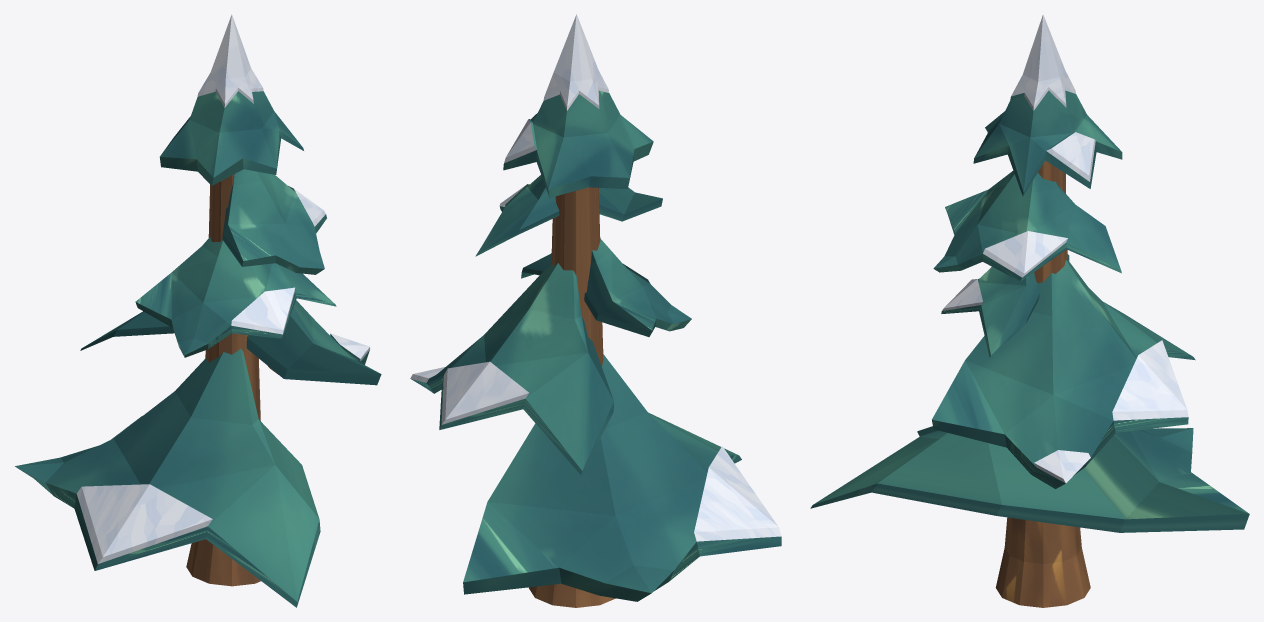
The model's file is Tree02.fbx.
3 renders of one model, left to right at view 1: azimuth 30°, elevation 25°; view 2: azimuth 150°, elevation 25°; view 3: azimuth 270°, elevation 25°, orthographic. The views are drawn at different scales.
Visible parts, largest first — view 1: Tree02; view 2: Tree02; view 3: Tree02.
Part boxes in pixels (bbox=[...]): Tree02: bbox=[15, 14, 381, 607]; Tree02: bbox=[410, 14, 781, 607]; Tree02: bbox=[810, 14, 1249, 607].
Size of the model in its own units: 299 by 499 by 347.
